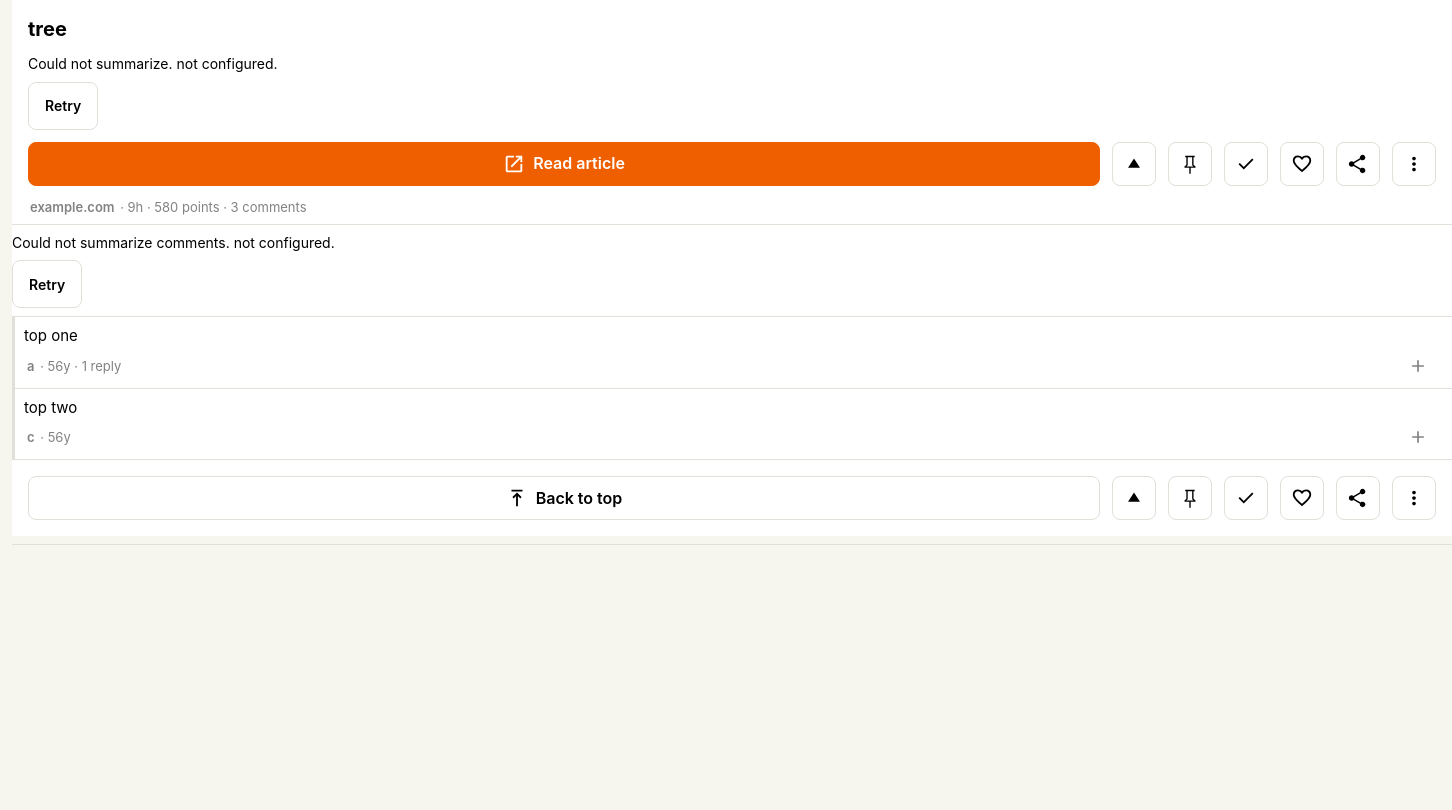
Test case: <Thread> keyboard shortcuts › j walks into a nested reply once its parent has been expanded
This screenshot has width=1452, height=810.
Later steps or results of the test are not shown.
Expected: the text "top one" is shown, [24,326,78,345]
Expected: the text "top two" is shown, [24,398,77,417]
Type keys "j"
(page scrolled)
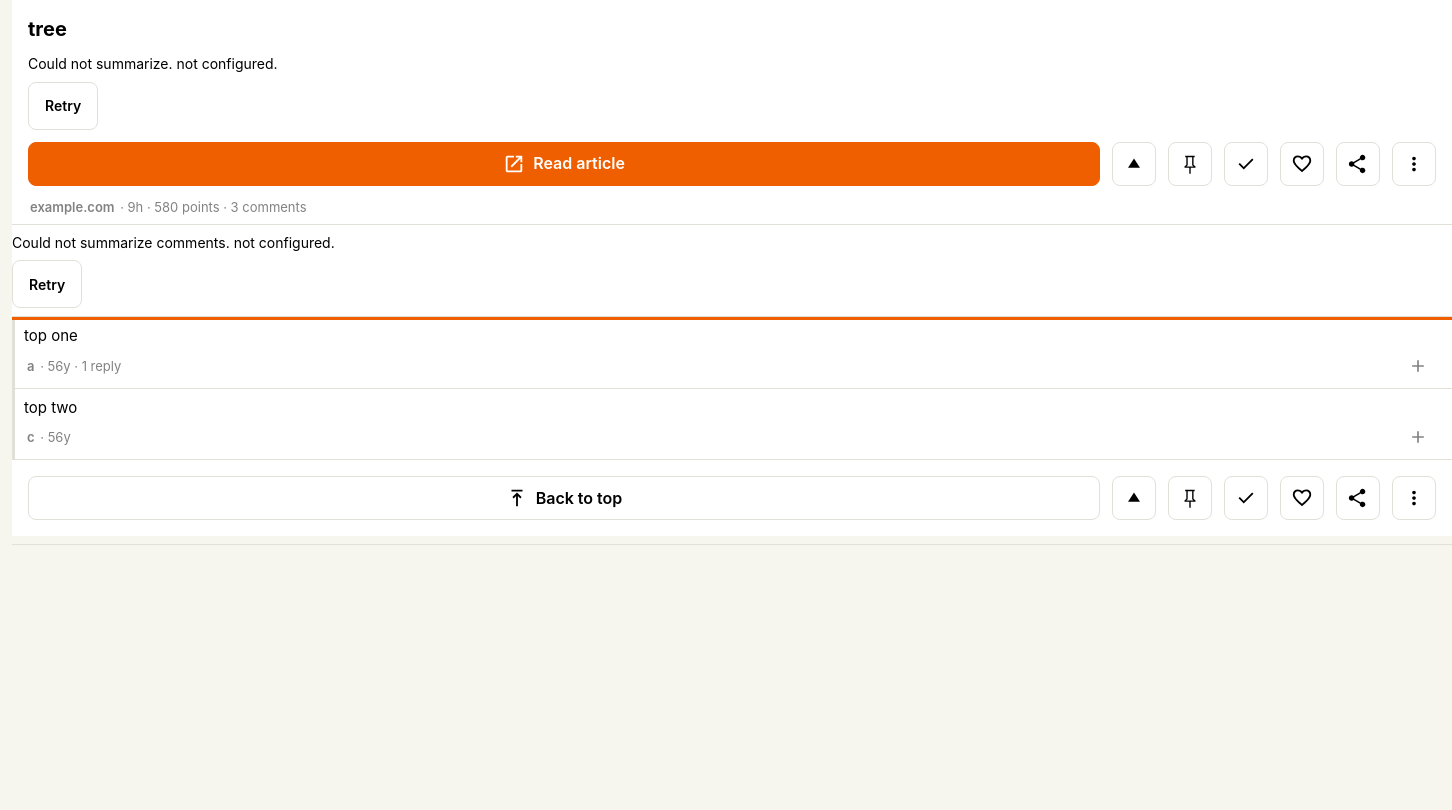
Click the button named "expand comment" in the row of "· 56y · 1 reply": point(1418, 366) [1396,348,1440,384]
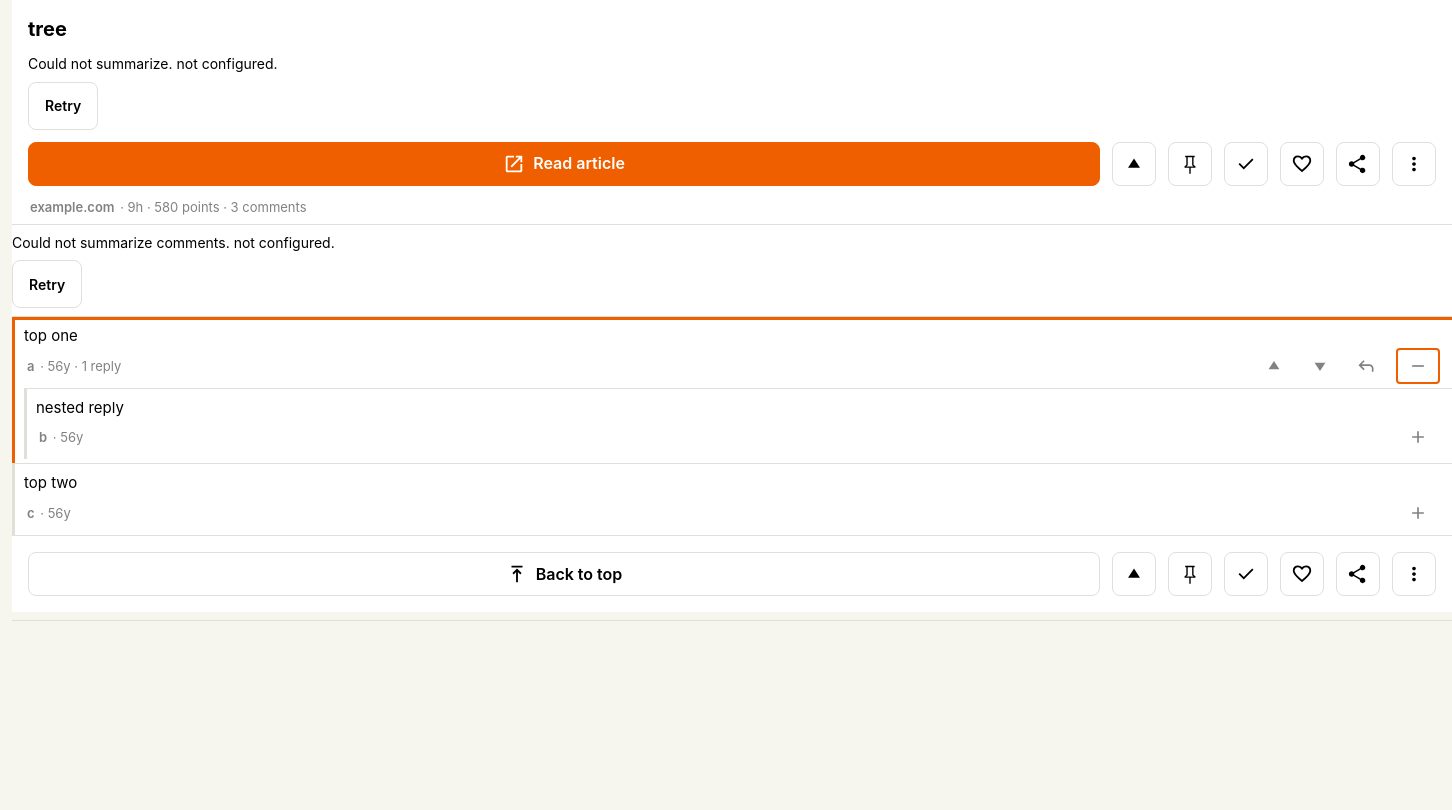
Expected: the text "nested reply" is shown, [36,398,124,417]
